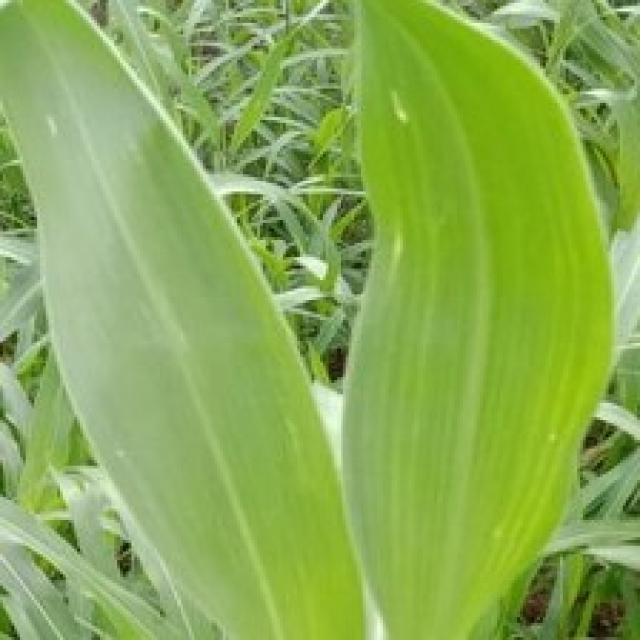Corn: (0, 0, 371, 637), (334, 0, 617, 637)
